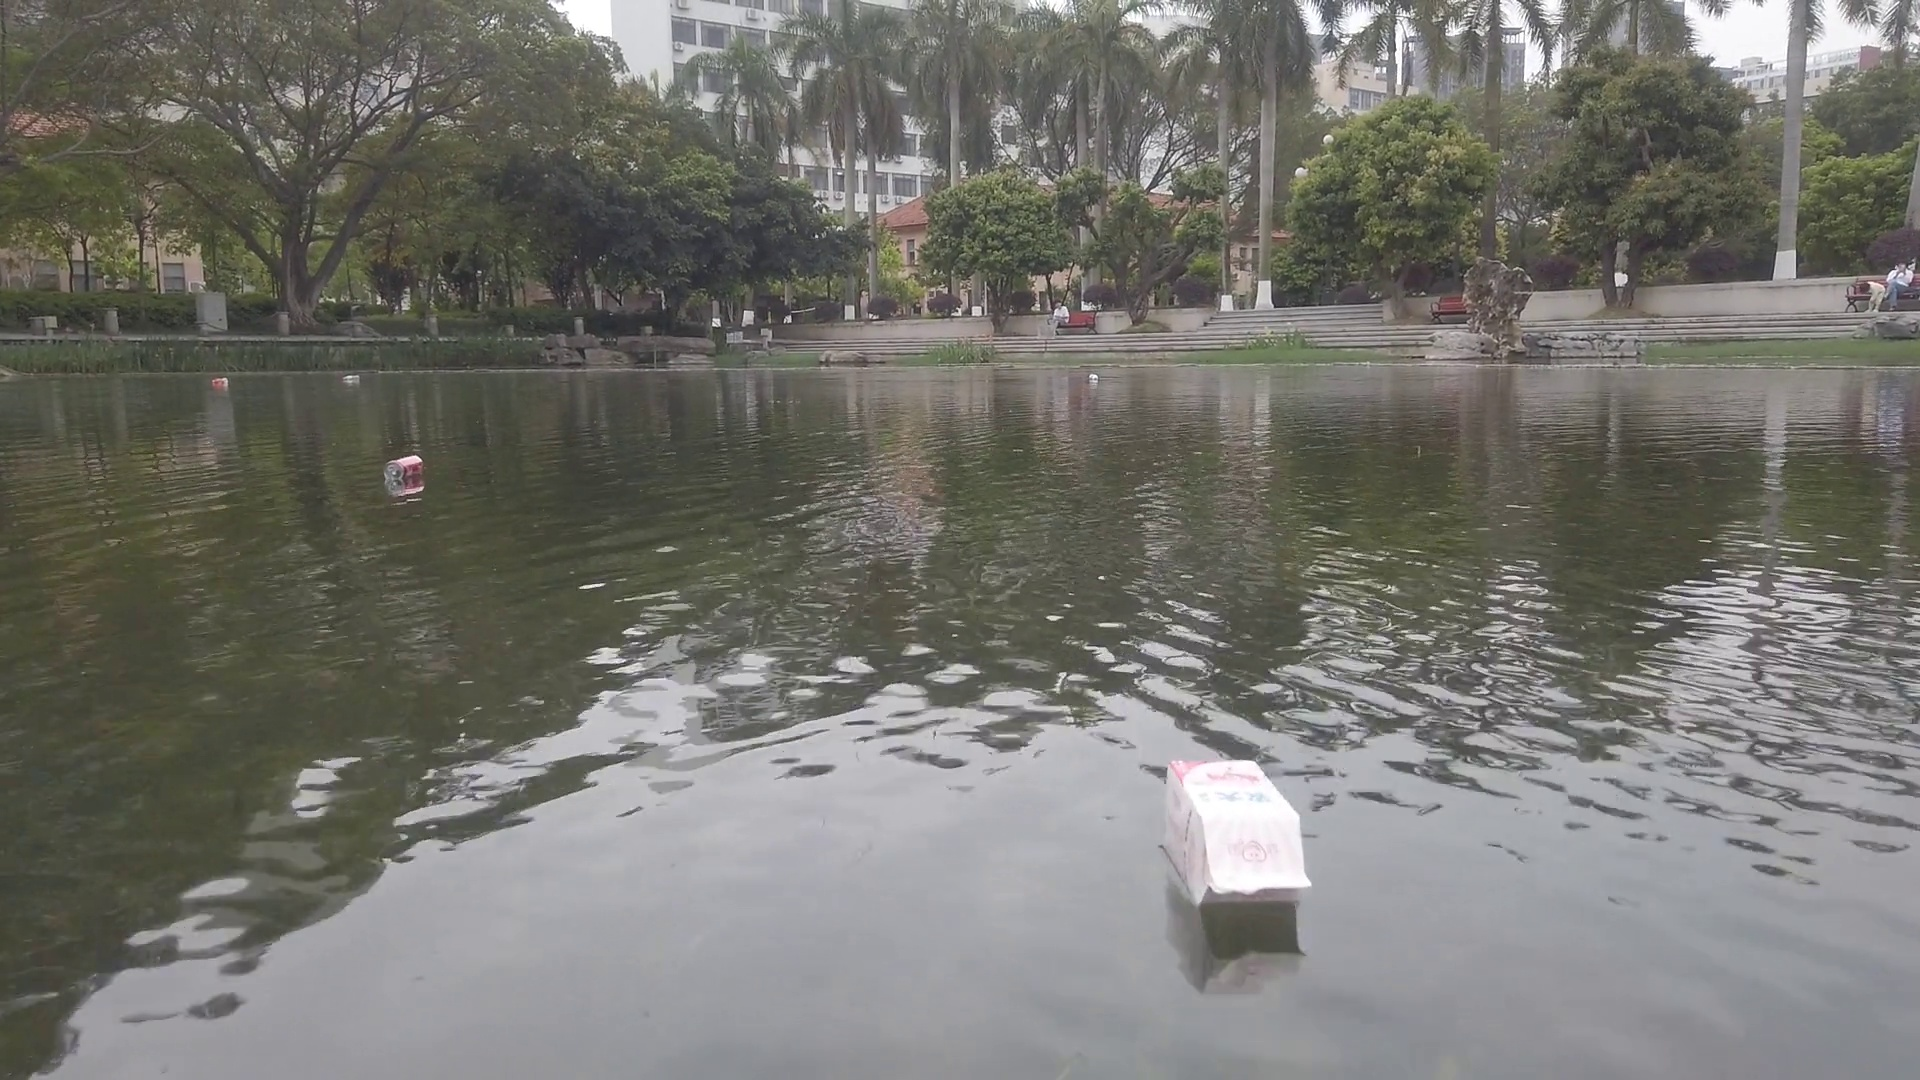bottle: (386, 454, 426, 481), (208, 377, 233, 386), (342, 372, 363, 382), (1087, 371, 1098, 382)
carton: (1156, 757, 1315, 916)
